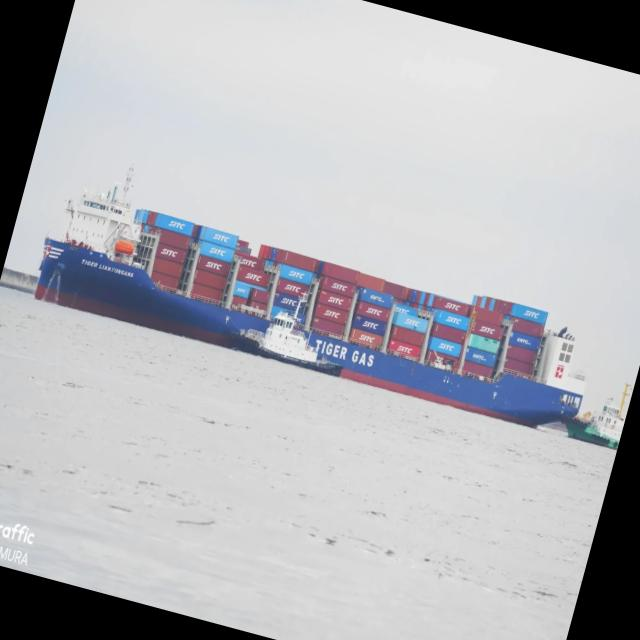Cargo: (34, 169, 583, 426)
Tug: (228, 312, 340, 375)
